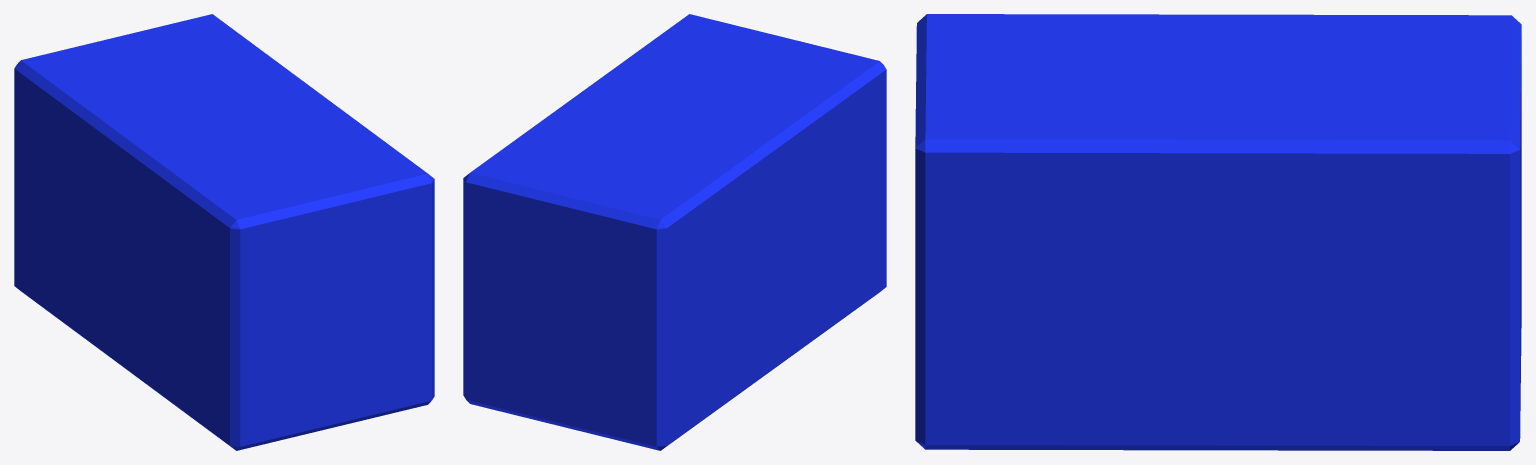
Rendered from MS_Block.fbx.
3 renders of one model, left to right at view 1: azimuth 30°, elevation 25°; view 2: azimuth 150°, elevation 25°; view 3: azimuth 270°, elevation 25°, orthographic. The views are drawn at different scales.
Parts seen in each view (by area): view 1: MS_Block; view 2: MS_Block; view 3: MS_Block.
Boxes of the visible parts, x1=… form: MS_Block: x1=14, y1=14, x2=434, y2=450; MS_Block: x1=463, y1=14, x2=886, y2=450; MS_Block: x1=915, y1=14, x2=1521, y2=450.
Bounding box in the file's own units: 31.96 × 60.63 × 34.26.
